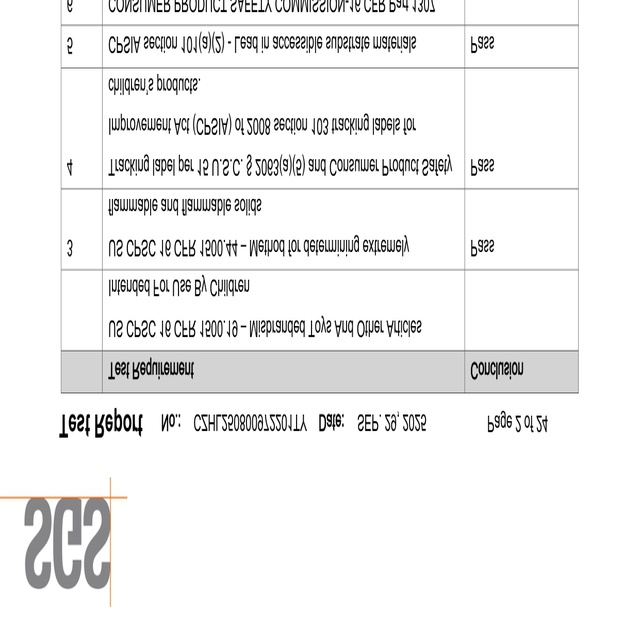sgs: (24, 497, 112, 588)
